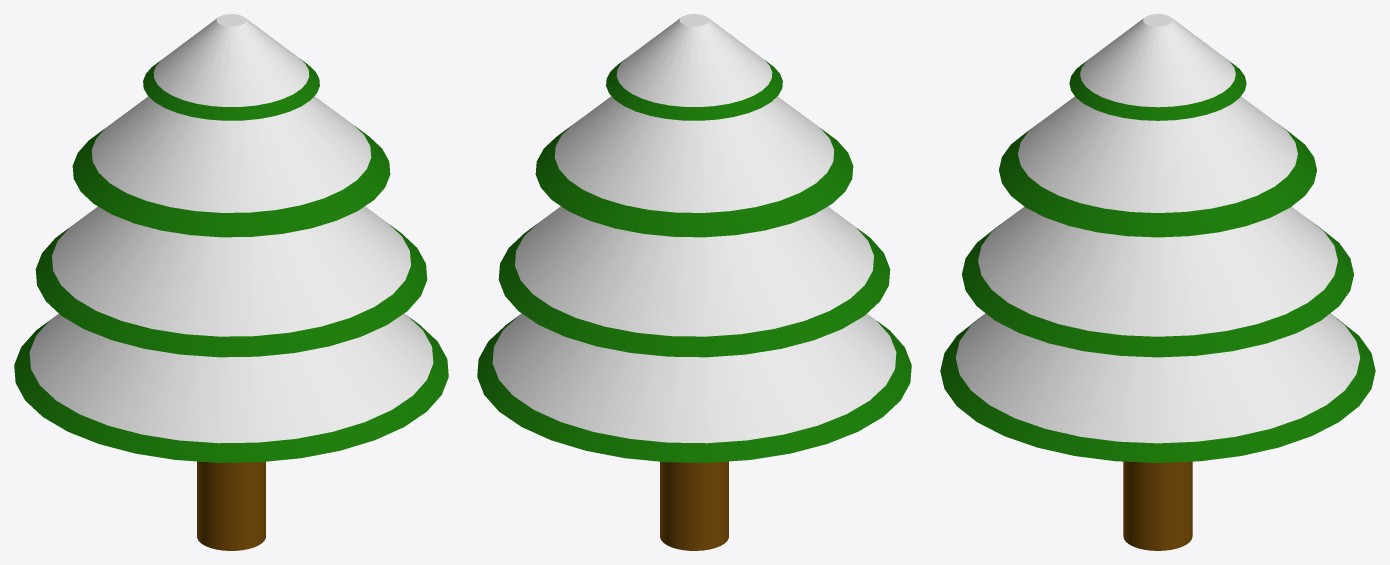
Rendered from snowTree.gltf.
3 renders of one model, left to right at view 1: azimuth 30°, elevation 25°; view 2: azimuth 150°, elevation 25°; view 3: azimuth 270°, elevation 25°, orthographic.
Parts seen in each view (by area): view 1: SnowTree; view 2: SnowTree; view 3: SnowTree.
Boxes of the visible parts, x1,y1,x2,y2 form: SnowTree: [14, 14, 448, 550]; SnowTree: [477, 14, 911, 550]; SnowTree: [940, 14, 1375, 550].
Size of the model in its own units: 0.9516 by 1.24 by 0.9516.
